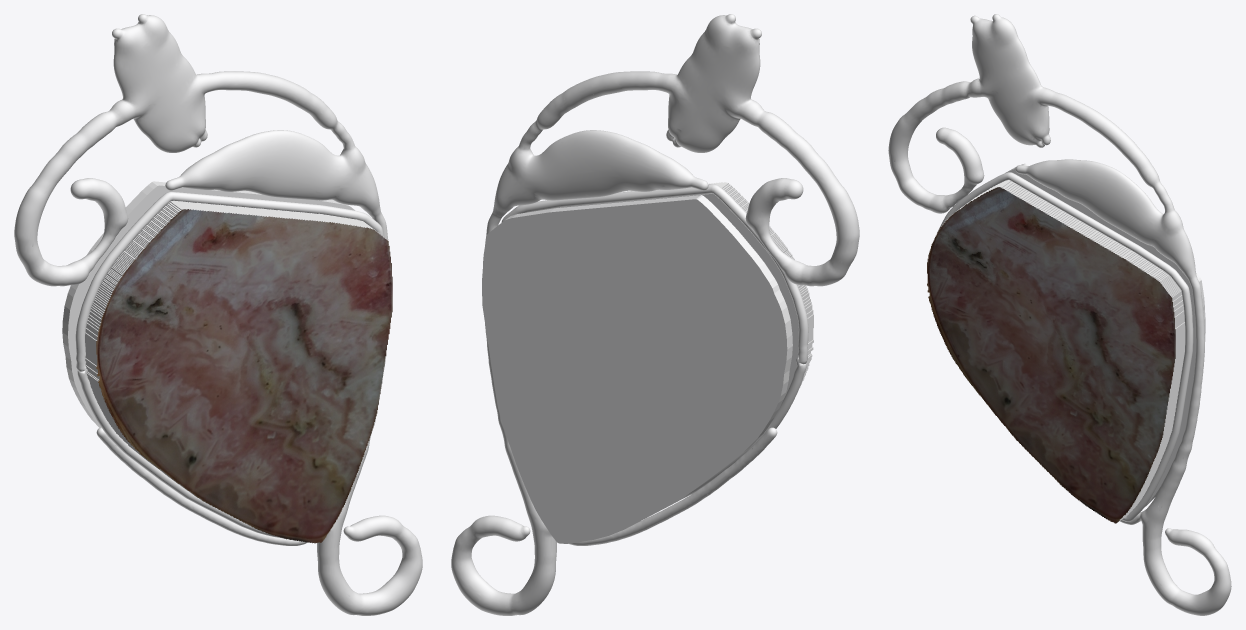
3 renders of one model, left to right at view 1: azimuth 30°, elevation 25°; view 2: azimuth 150°, elevation 25°; view 3: azimuth 330°, elevation 25°, orthographic. The views are drawn at different scales.
Visible parts, largest first — view 1: joya; view 2: joya; view 3: joya.
Boxes of the visible parts, x1,y1,x2,y2 form: joya: (14, 14, 422, 615); joya: (451, 14, 859, 615); joya: (888, 14, 1231, 615).
Bounding box in the file's own units: 0.025 × 0.0386 × 0.00325.
3 materials, 1 textured.
